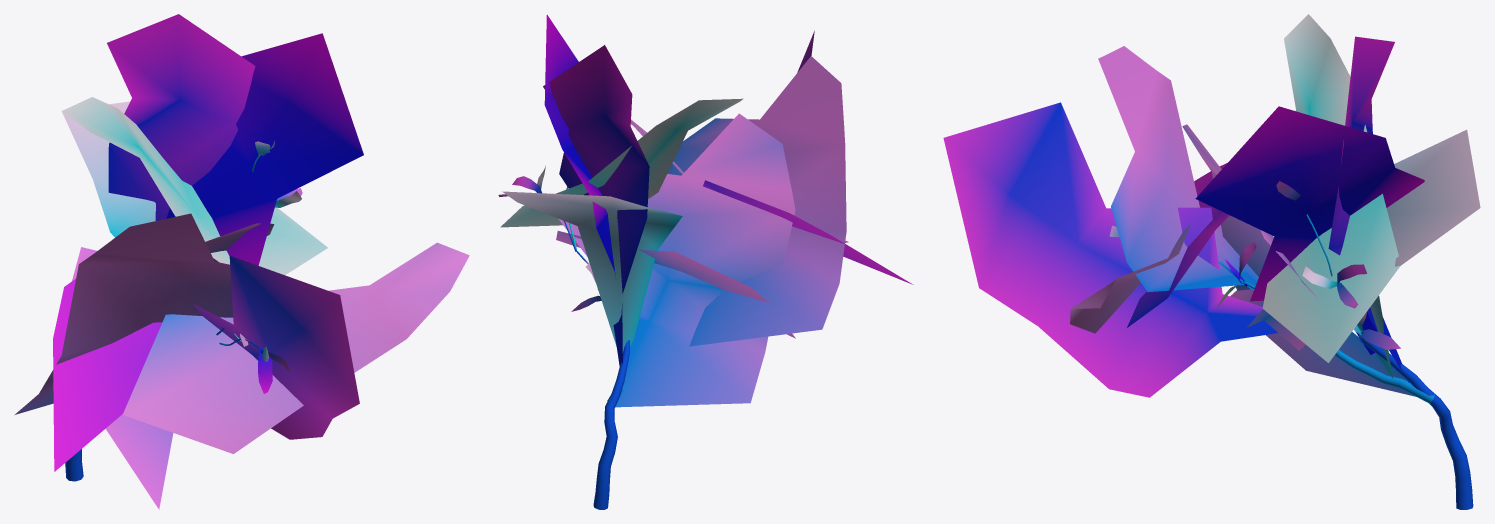
The model's file is Downy_Willow_wknlfiuqx_Mid_wknlfiuqx_VarB_LOD2.fbx.
3 renders of one model, left to right at view 1: azimuth 30°, elevation 25°; view 2: azimuth 150°, elevation 25°; view 3: azimuth 270°, elevation 25°, orthographic. The views are drawn at different scales.
Visible parts, largest first — view 1: _9wt6_VarB_LOD3; view 2: _9wt6_VarB_LOD3; view 3: _9wt6_VarB_LOD3.
Part boxes in pixels (left/top/right/bottom): _9wt6_VarB_LOD3: left=15, top=14, right=469, bottom=509; _9wt6_VarB_LOD3: left=498, top=14, right=913, bottom=509; _9wt6_VarB_LOD3: left=943, top=14, right=1480, bottom=509.
Size of the model in its own units: 80.22 by 92.15 by 90.43.
